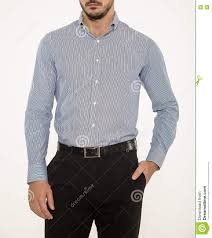F_belt: (52, 136, 143, 159)
F_dress pants: (39, 152, 148, 238)
